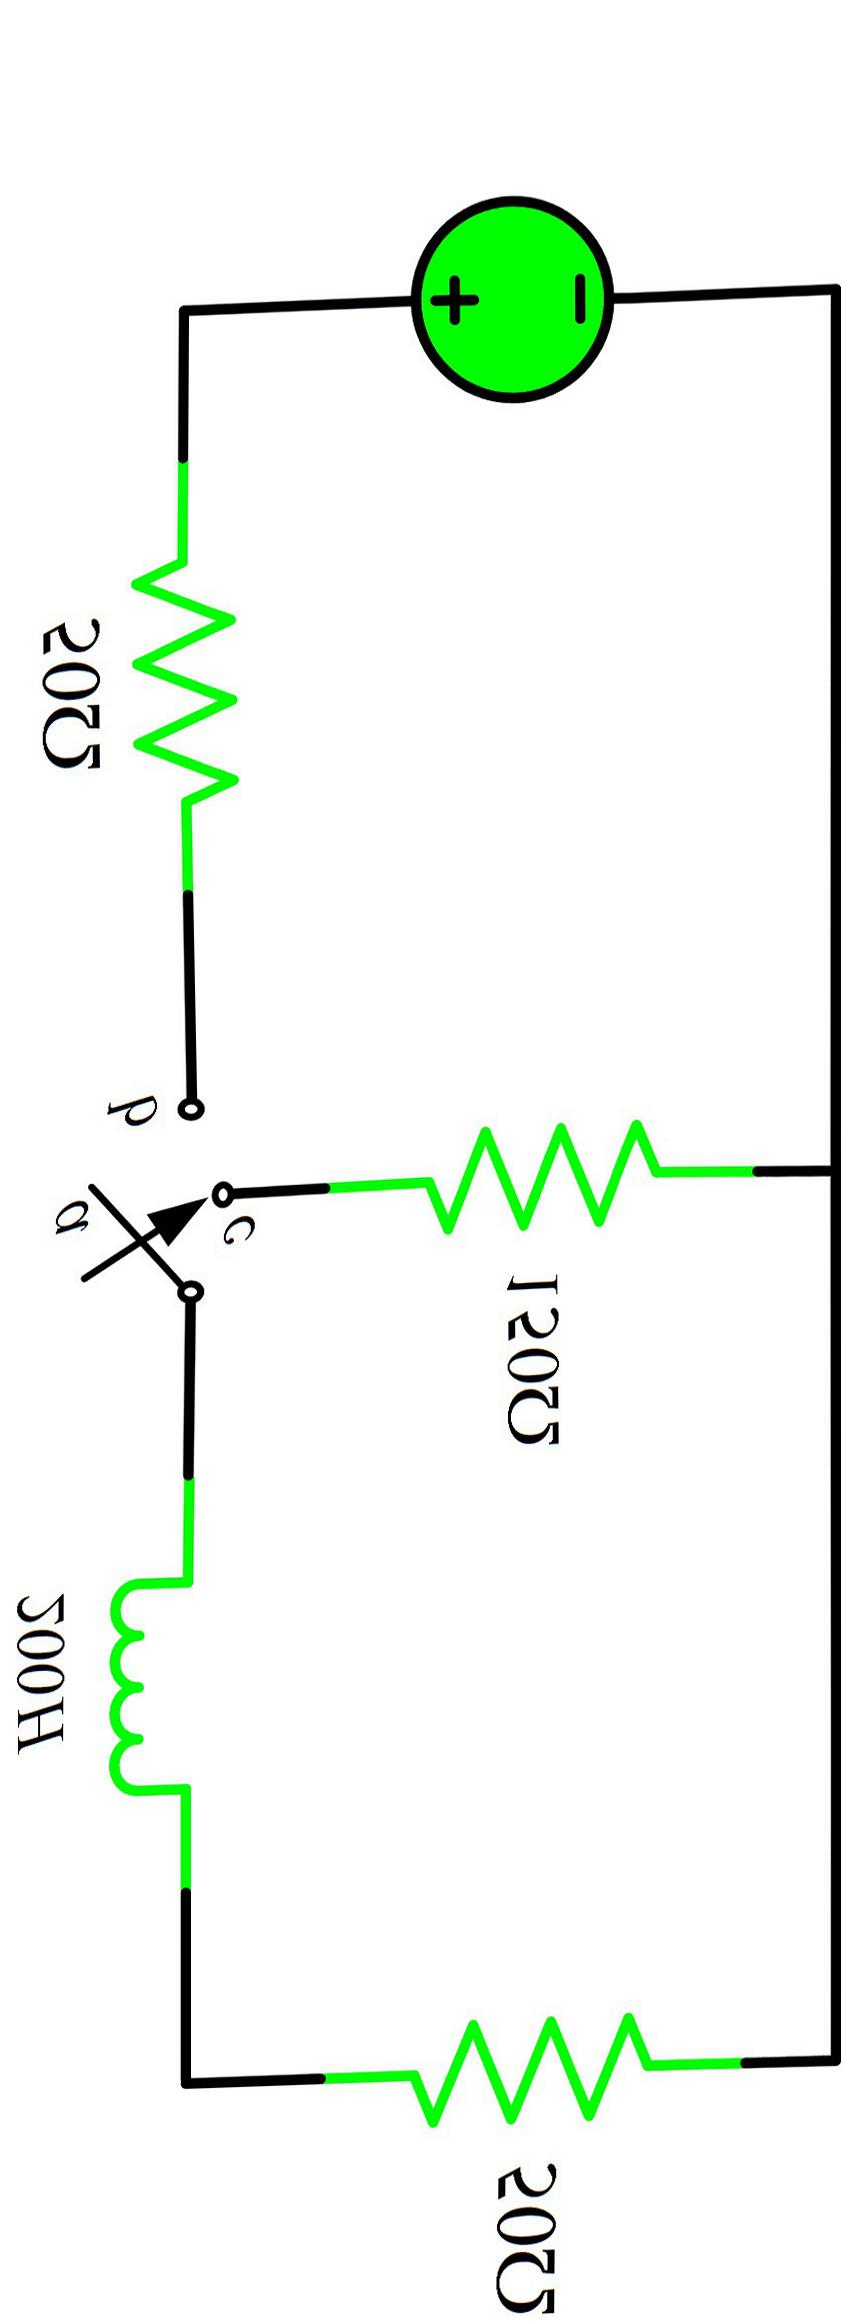Battery: (345, 152, 684, 480)
